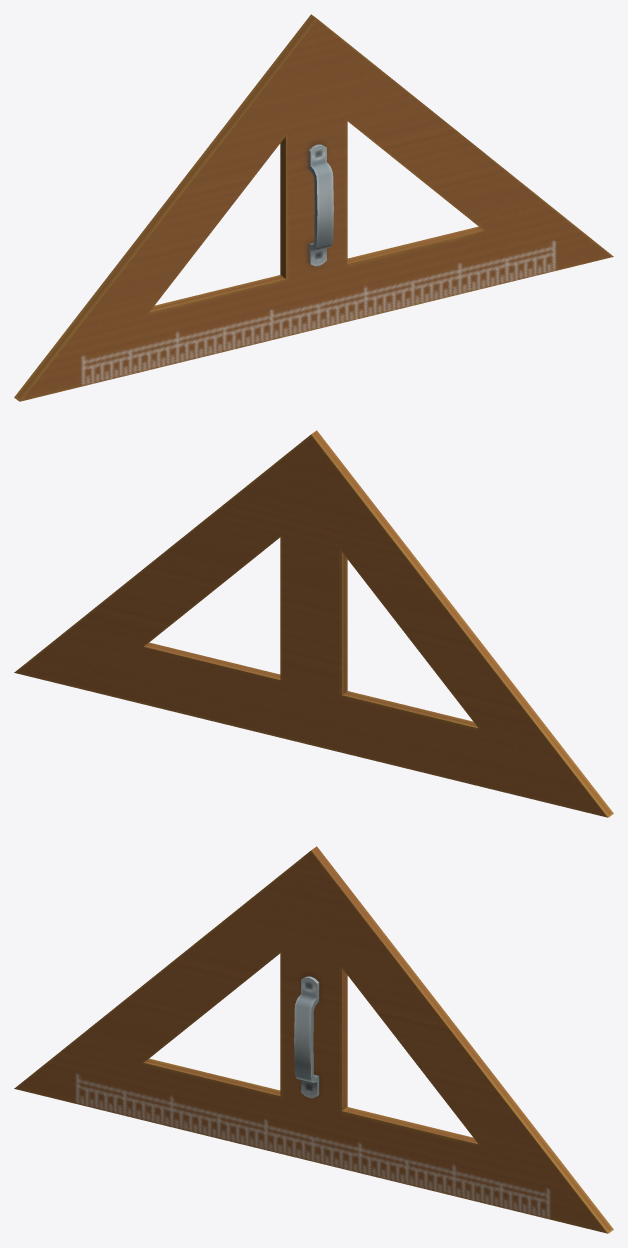
Rendered from Set_square_01_02.fbx.
The picture shows the model from 3 angles, top to bottom: view 1: azimuth 30°, elevation 25°; view 2: azimuth 150°, elevation 25°; view 3: azimuth 330°, elevation 25°; orthographic projection.
Parts seen in each view (by area): view 1: set_square_01_02; view 2: set_square_01_02; view 3: set_square_01_02.
Boxes of the visible parts, x1,y1,x2,y2 form: set_square_01_02: (14, 14, 613, 401); set_square_01_02: (14, 430, 613, 817); set_square_01_02: (14, 846, 613, 1233).
Bounding box in the file's own units: 60 × 30 × 2.55.
